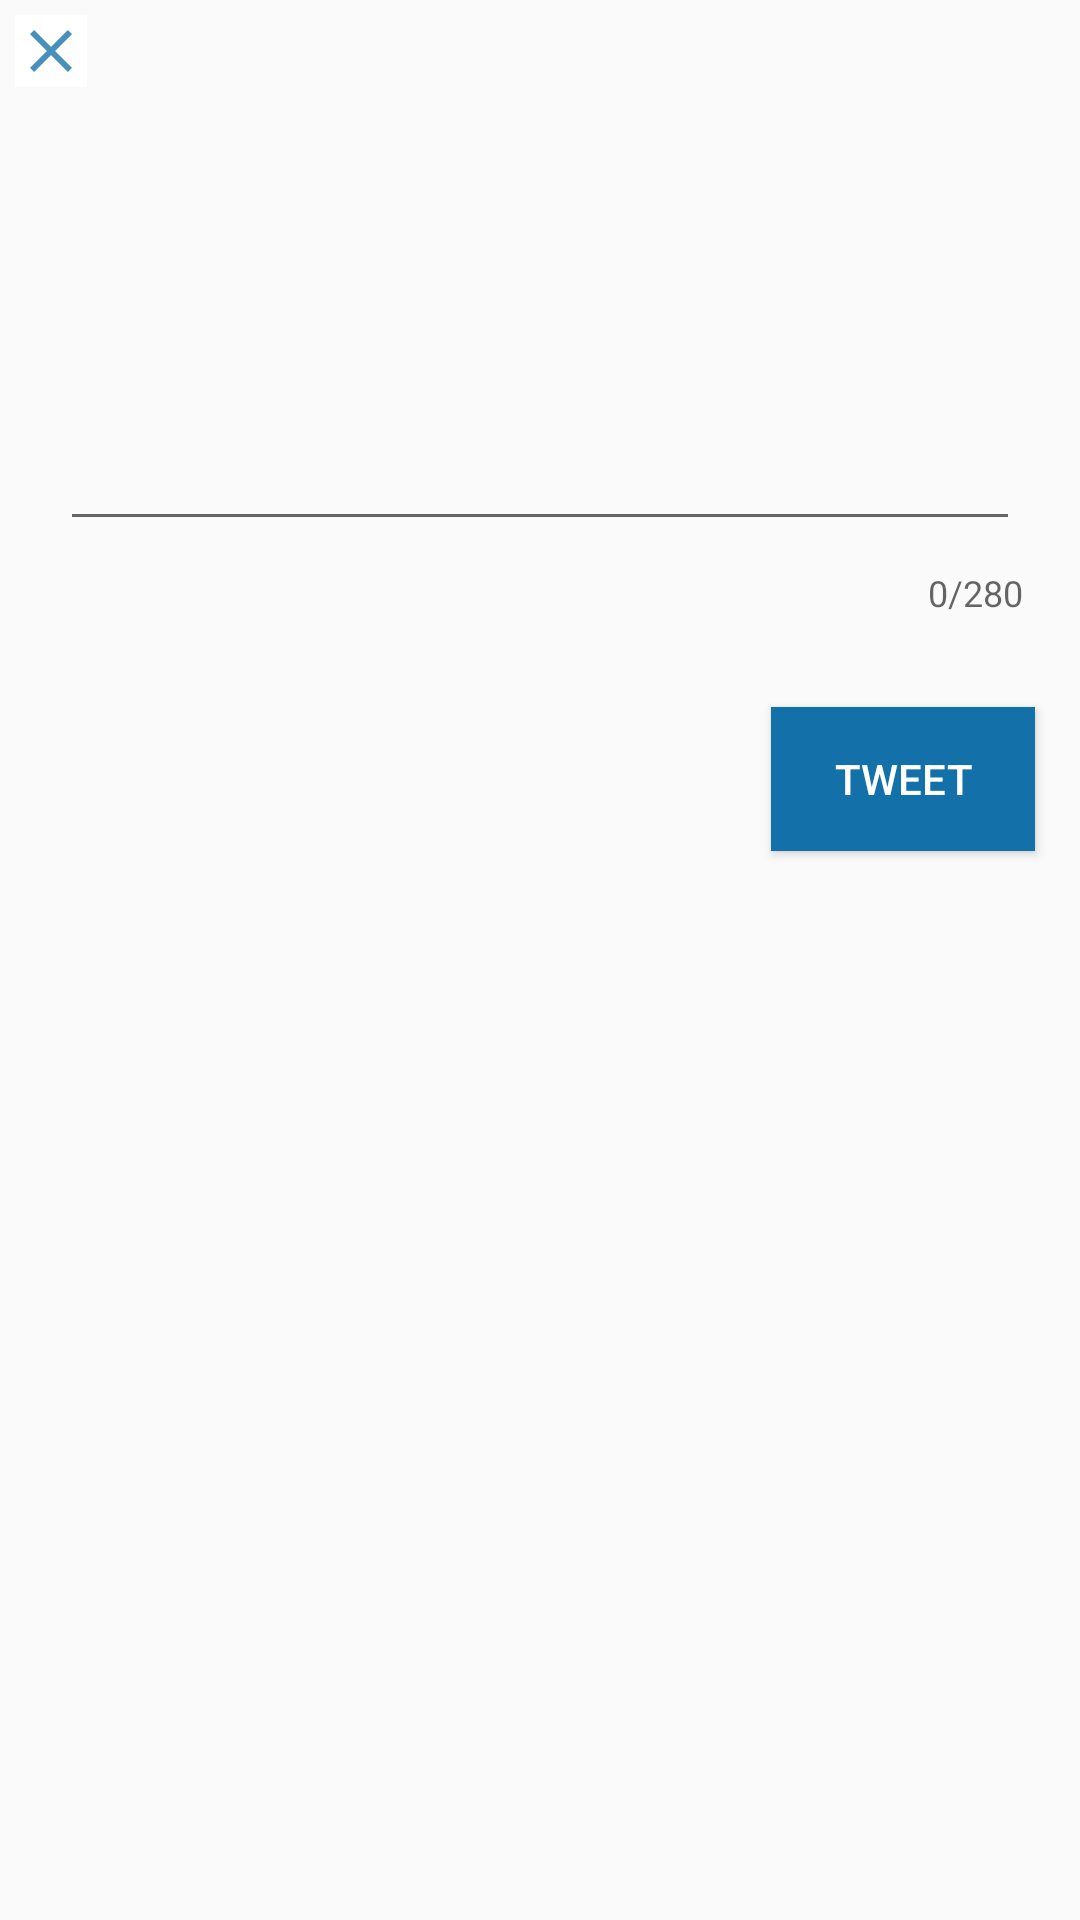

Icon bounding boxes for this 1080x1920 phone screenshot, format (x1, y1, x2, y2):
close: (30, 30, 72, 72)
